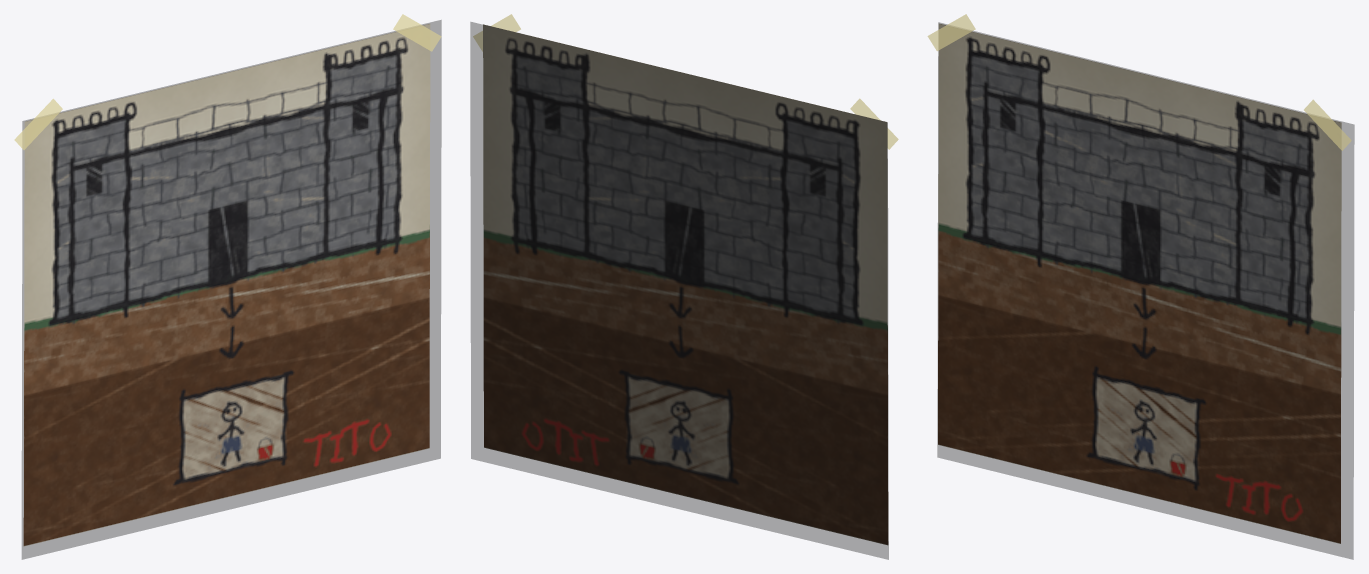
File: desenho_4.glb
3 views of the same model, side by side, from view 1: azimuth 30°, elevation 25°; view 2: azimuth 150°, elevation 25°; view 3: azimuth 330°, elevation 25° (orthographic).
Visible parts, largest first — view 1: _MeshInstance3D_1914_2, _MeshInstance3D_1913_3, _MeshInstance3D_1916_0, _MeshInstance3D_1915_1; view 2: _MeshInstance3D_1913_3, _MeshInstance3D_1914_2; view 3: _MeshInstance3D_1914_2, _MeshInstance3D_1913_3, _MeshInstance3D_1915_1, _MeshInstance3D_1916_0.
Part boxes in pixels (x1,y1,x2,y2): _MeshInstance3D_1914_2: (23, 24, 430, 546); _MeshInstance3D_1913_3: (22, 20, 441, 559); _MeshInstance3D_1916_0: (393, 14, 441, 51); _MeshInstance3D_1915_1: (14, 98, 62, 149); _MeshInstance3D_1913_3: (470, 22, 888, 559); _MeshInstance3D_1914_2: (483, 24, 888, 545); _MeshInstance3D_1914_2: (938, 23, 1341, 543); _MeshInstance3D_1913_3: (937, 22, 1354, 559); _MeshInstance3D_1915_1: (927, 14, 975, 51); _MeshInstance3D_1916_0: (1304, 99, 1351, 150).
Size of the model in its own units: 0.9512 by 0.9665 by 0.005.
3 materials, 1 textured.
